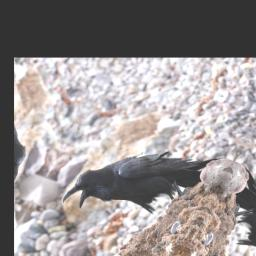Crow: (62, 117, 223, 242)
